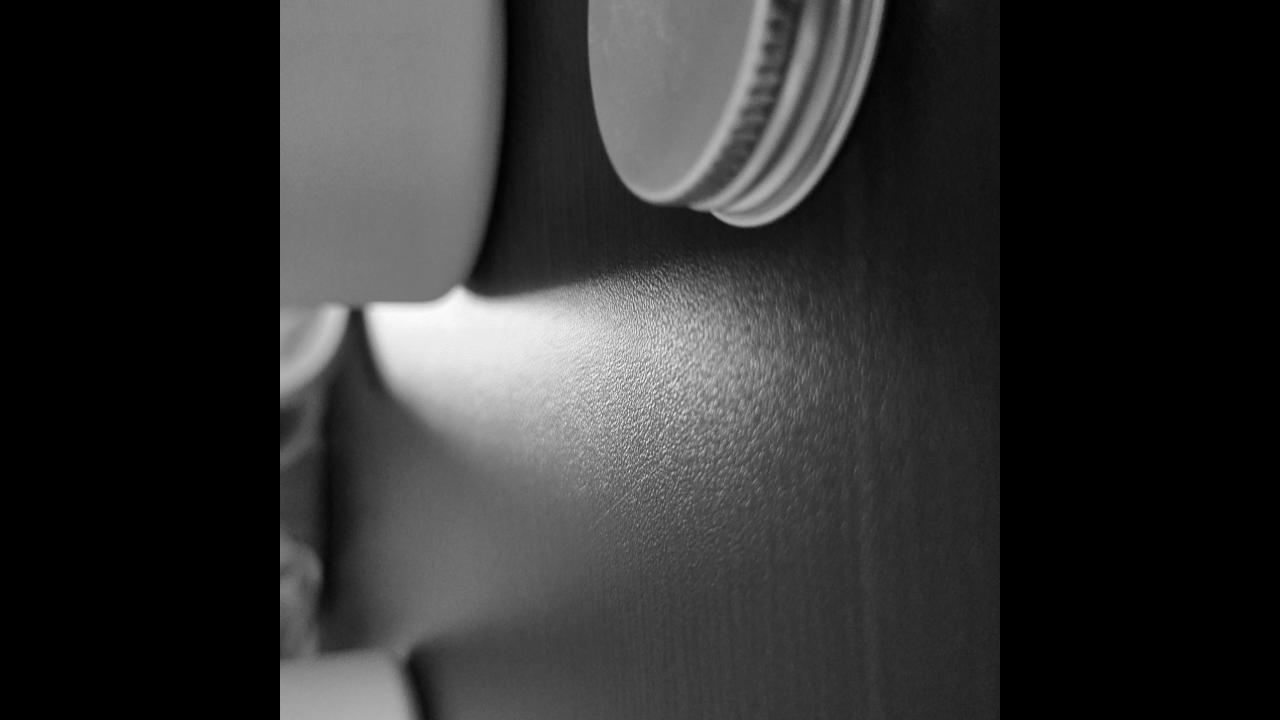bottle_cap: (580, 0, 894, 229)
